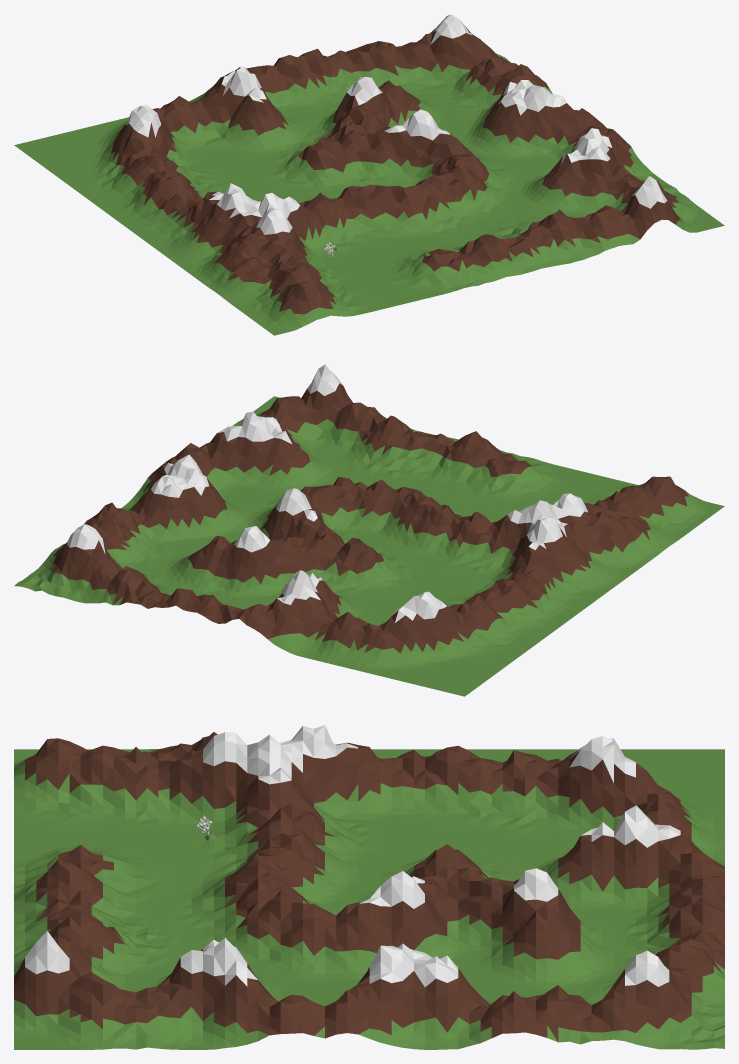
The model's file is presentation.glb.
3 renders of one model, top to bottom at view 1: azimuth 30°, elevation 25°; view 2: azimuth 150°, elevation 25°; view 3: azimuth 270°, elevation 25°, orthographic. The views are drawn at different scales.
Parts seen in each view (by area): view 1: Plane; view 2: Plane; view 3: Plane.
Part boxes in pixels (<box>): Plane: <box>14,14,724,335</box>; Plane: <box>14,364,724,696</box>; Plane: <box>14,725,724,1049</box>.
Size of the model in its own units: 160 by 19.12 by 160.
